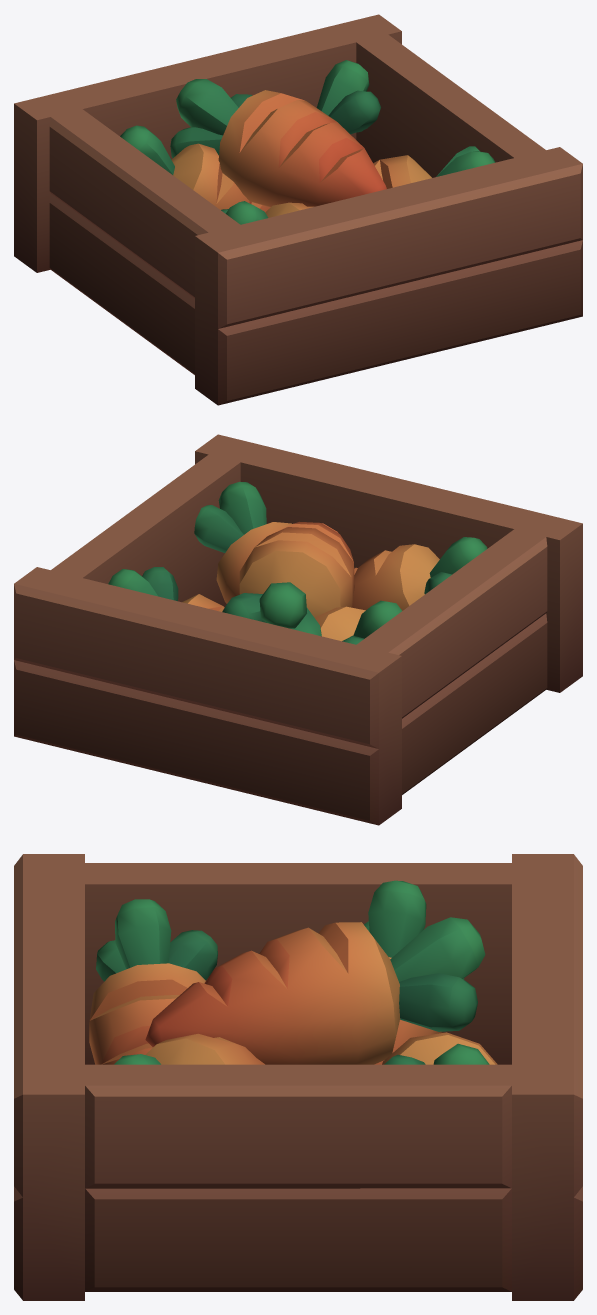
File: crate-carrots.glb
3 views of the same model, one above another, from view 1: azimuth 30°, elevation 25°; view 2: azimuth 150°, elevation 25°; view 3: azimuth 270°, elevation 25° (orthographic). The views are drawn at different scales.
Visible parts, largest first — view 1: crate-carrots; view 2: crate-carrots; view 3: crate-carrots.
Part boxes in pixels (x1,y1,x2,y2): crate-carrots: (14,14,582,405); crate-carrots: (14,434,582,825); crate-carrots: (14,854,582,1300).
Size of the model in its own units: 0.9542 by 0.45 by 0.9542.
